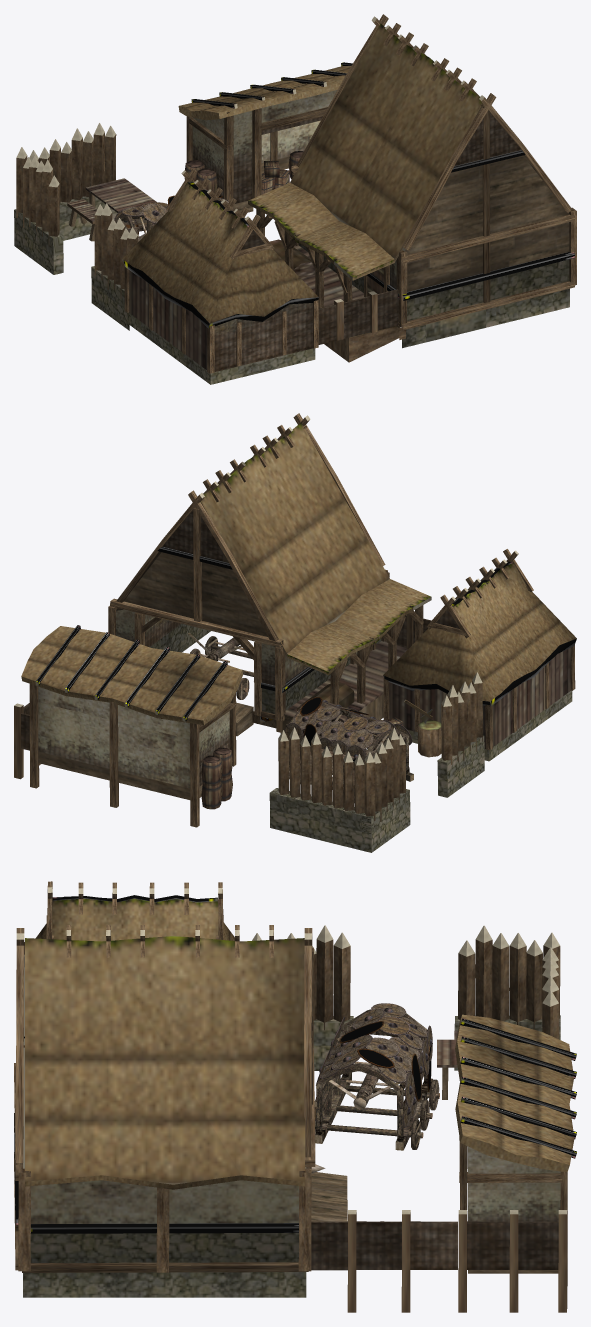
File: s_germans_workshop.glb
The picture shows the model from 3 angles, top to bottom: view 1: azimuth 30°, elevation 25°; view 2: azimuth 150°, elevation 25°; view 3: azimuth 270°, elevation 25°; orthographic projection. The views are drawn at different scales.
Parts seen in each view (by area): view 1: s_germans_workshop_part0; view 2: s_germans_workshop_part0, s_germans_workshop_part1, s_germans_workshop_part3; view 3: s_germans_workshop_part0, s_germans_workshop_part3, s_germans_workshop_part2.
Part boxes in pixels (<box>): s_germans_workshop_part0: <box>14,14,576,384</box>; s_germans_workshop_part0: <box>14,413,576,852</box>; s_germans_workshop_part1: <box>188,633,254,699</box>; s_germans_workshop_part3: <box>285,702,413,784</box>; s_germans_workshop_part0: <box>14,881,576,1312</box>; s_germans_workshop_part3: <box>314,1009,432,1150</box>; s_germans_workshop_part2: <box>315,1038,439,1149</box>.
Size of the model in its own units: 5 by 3.21 by 4.91.
Materials: 9 (9 with a texture image).
